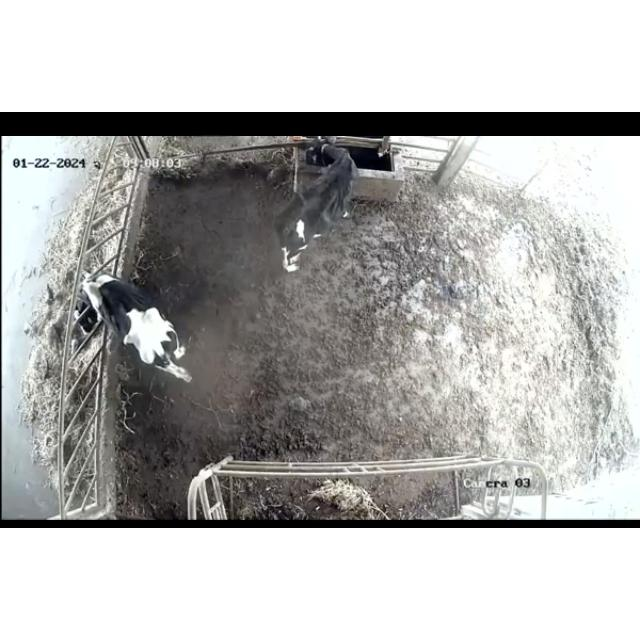drink: (302, 140, 356, 180)
eat: (49, 266, 128, 318)
